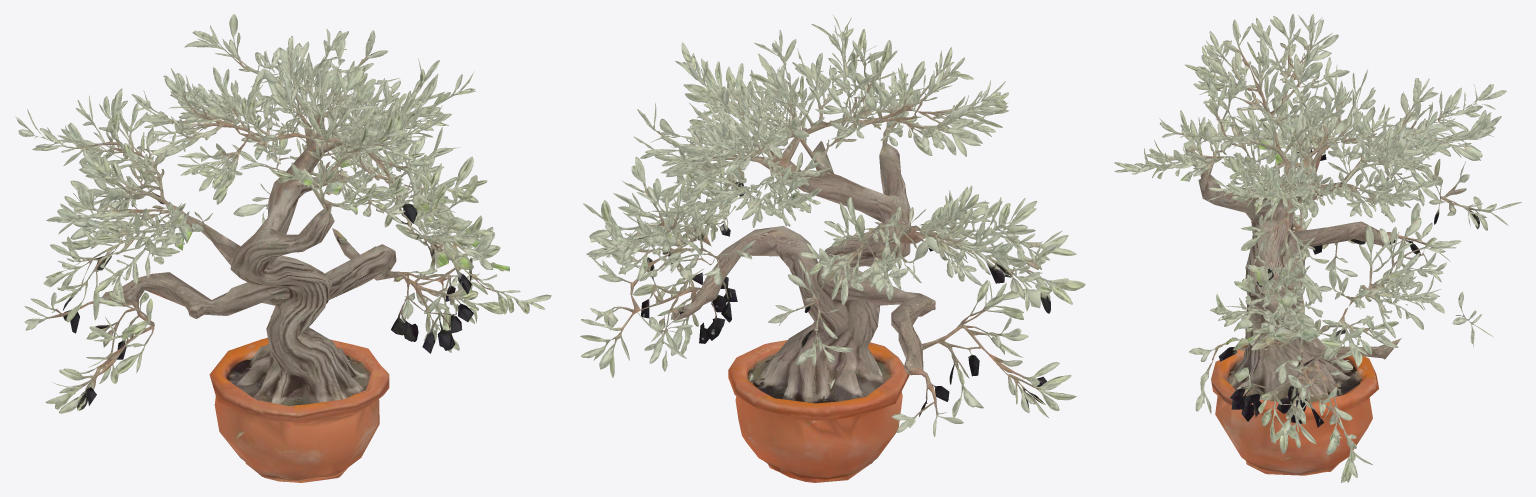
File: burhan-v1.glb
3 views of the same model, side by side, from view 1: azimuth 30°, elevation 25°; view 2: azimuth 150°, elevation 25°; view 3: azimuth 270°, elevation 25° (orthographic). The views are drawn at different scales.
Bounding box in the file's own units: 1.9 × 1.63 × 1.52.
1 material, 1 textured.
